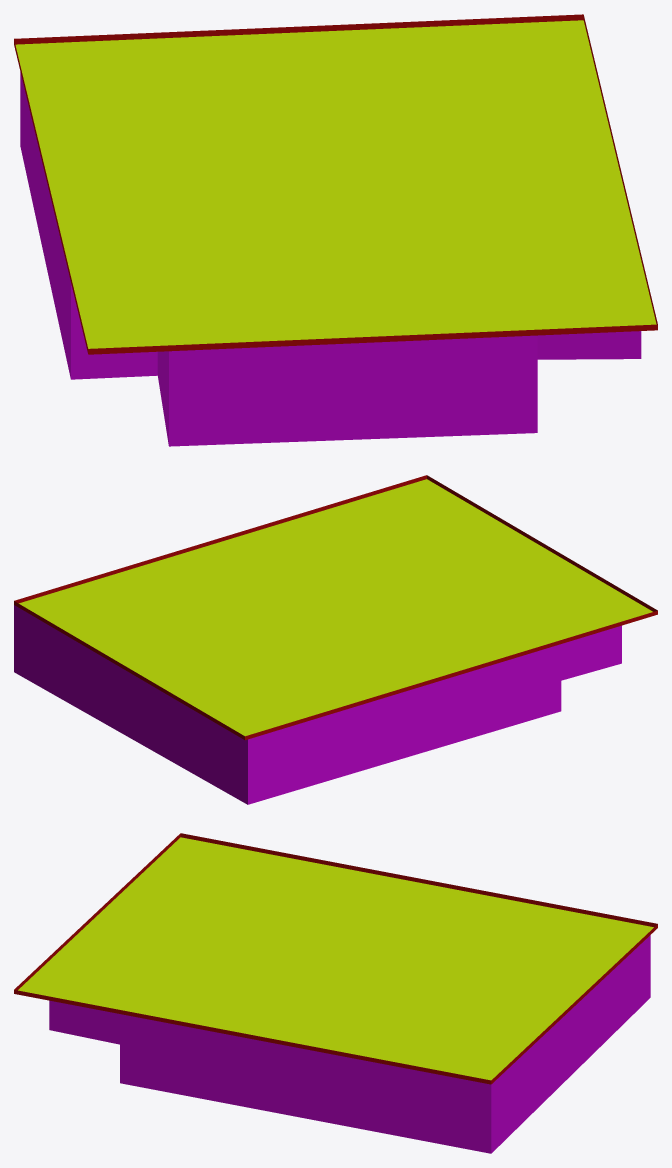
Rendered from bgj_32.glb.
3 views of the same model, one above another, from view 1: azimuth 30°, elevation 25°; view 2: azimuth 150°, elevation 25°; view 3: azimuth 270°, elevation 25° (orthographic). The views are drawn at different scales.
Visible parts, largest first — view 1: bgj_32; view 2: bgj_32; view 3: bgj_32.
Part boxes in pixels (x1,y1,x2,y2): bgj_32: [14, 14, 657, 446]; bgj_32: [14, 475, 657, 804]; bgj_32: [14, 833, 657, 1153].
Size of the model in its own units: 44.87 by 6.21 by 49.37.
